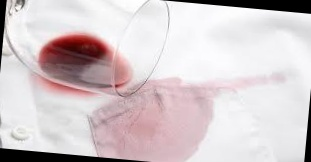wine: (91, 71, 225, 162), (193, 59, 277, 108)
